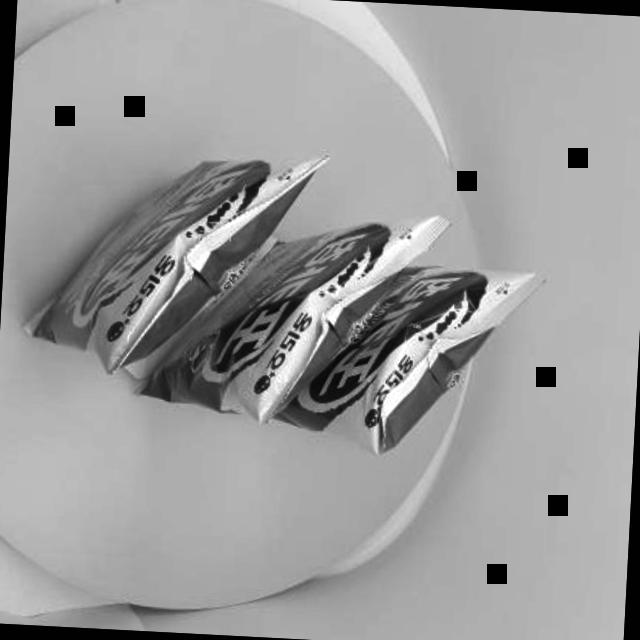snack_bag: (11, 109, 568, 480)
